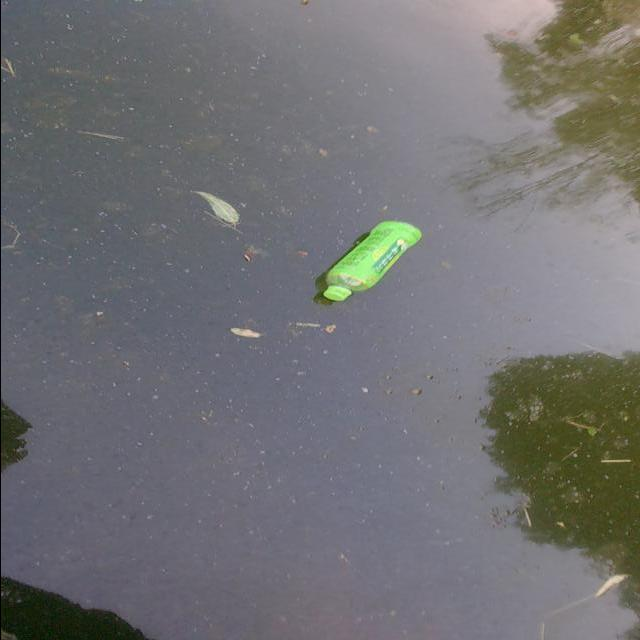Bottle: (310, 216, 424, 310)
